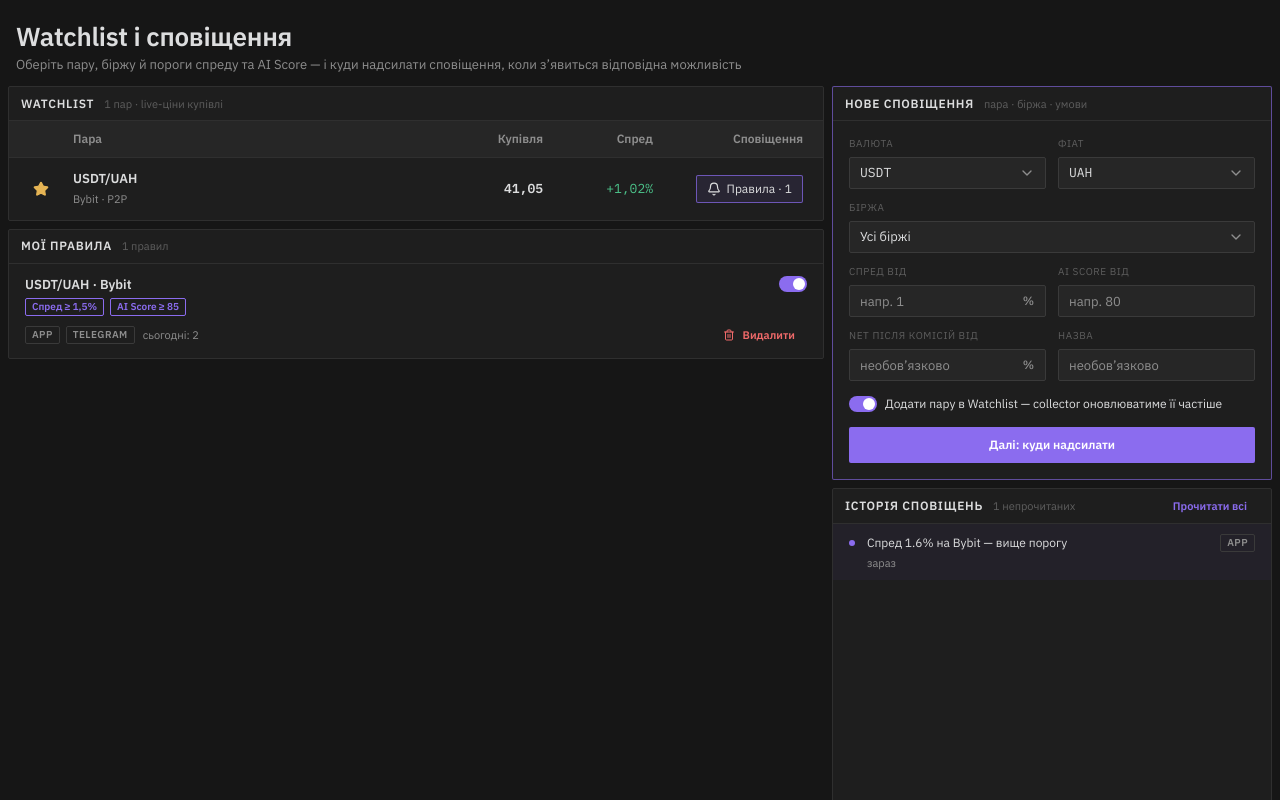
Test case: сторінка «Watchlist і сповіщення» › створює сповіщення: пара, біржа, спред, AI Score, потім вибір каналів
Type "1,5" into the field labelled "Спред від". click: (948, 301)
box: [849,285,1046,317]
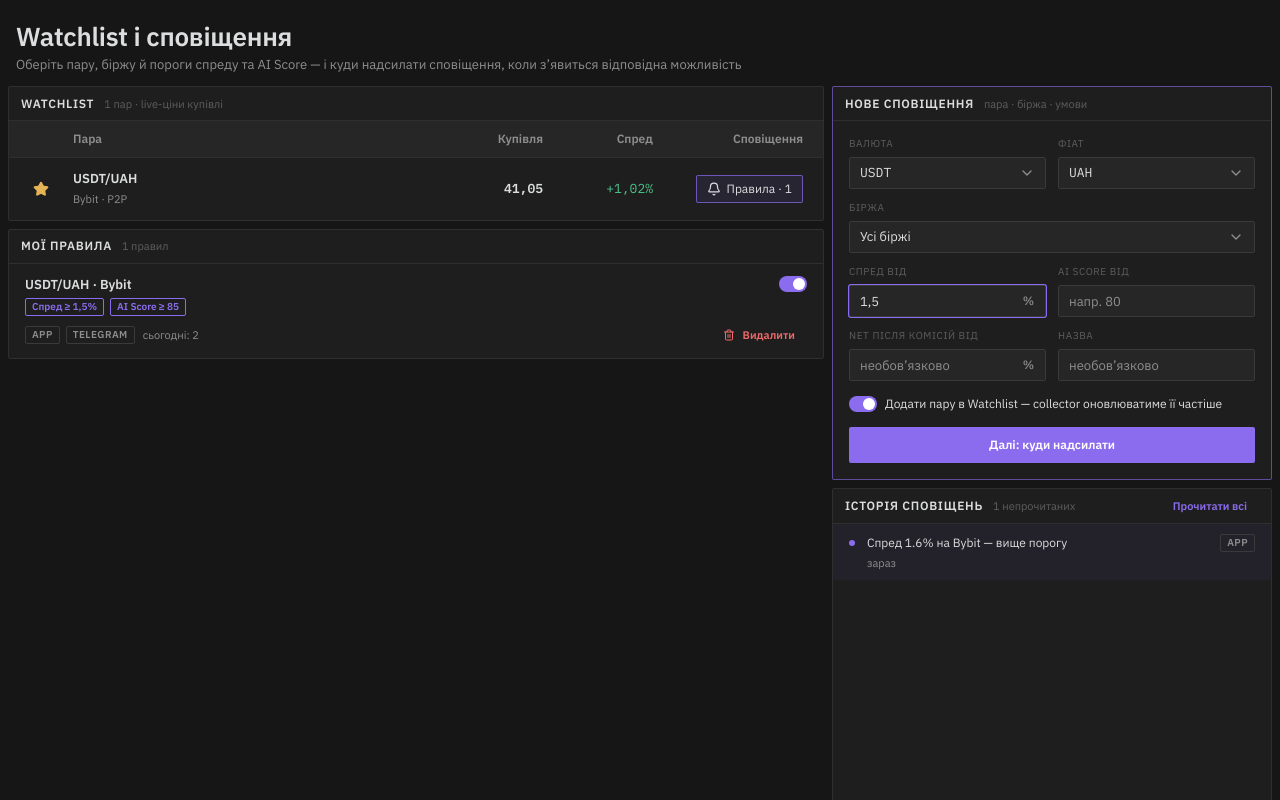
Type "85" into the field labelled "AI Score від". click: (1156, 301)
box: [1058,285,1255,317]
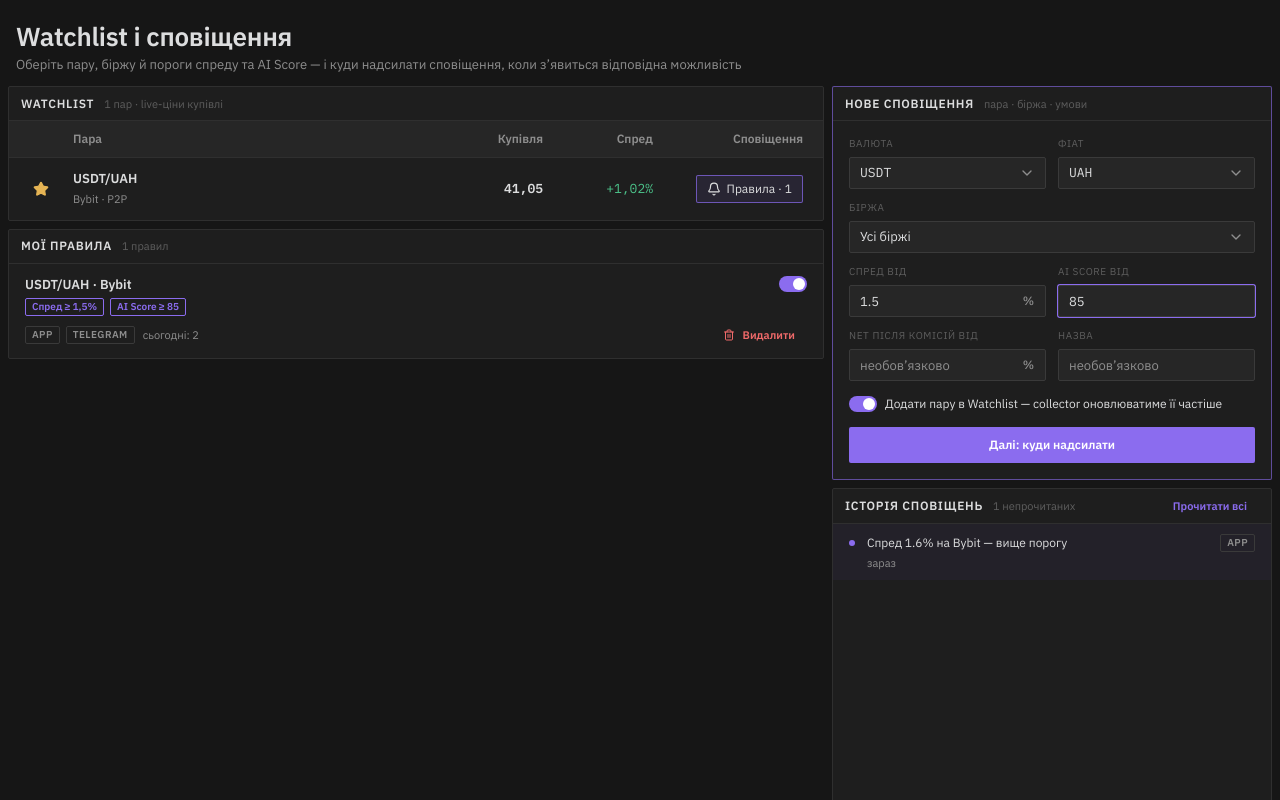
Click the button "Далі: куди надсилати". click: (1052, 445)
box: [849,427,1255,463]
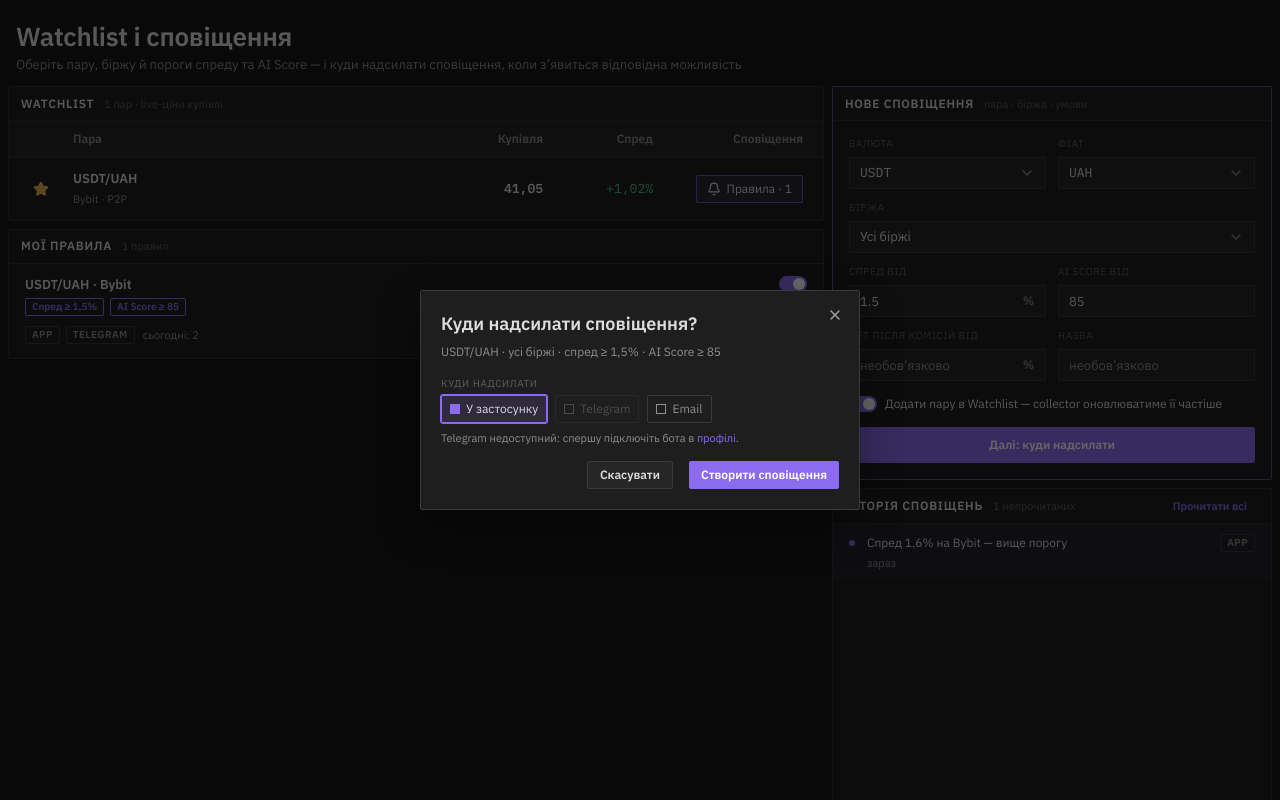
expect the text "USDT/UAH · усі біржі · спред ≥ 1,5% · AI Score ≥ 85" is shown: met, box [441,344,721,359]
expect the button "Telegram" is disabled: met, box [555,395,639,423]
Click the button "Email". click: (680, 409)
box: [647,395,712,423]
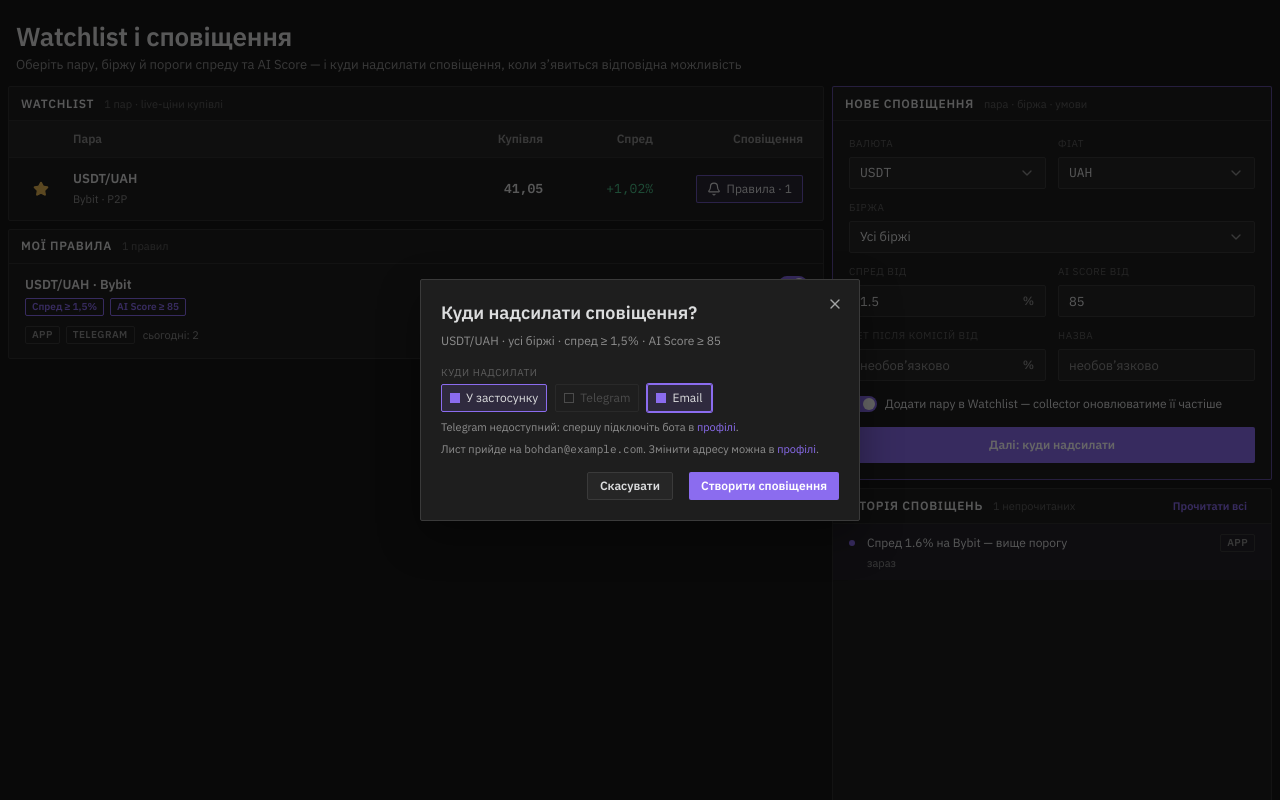
Click the button "Створити сповіщення". click: (764, 486)
box: [689,472,839,500]
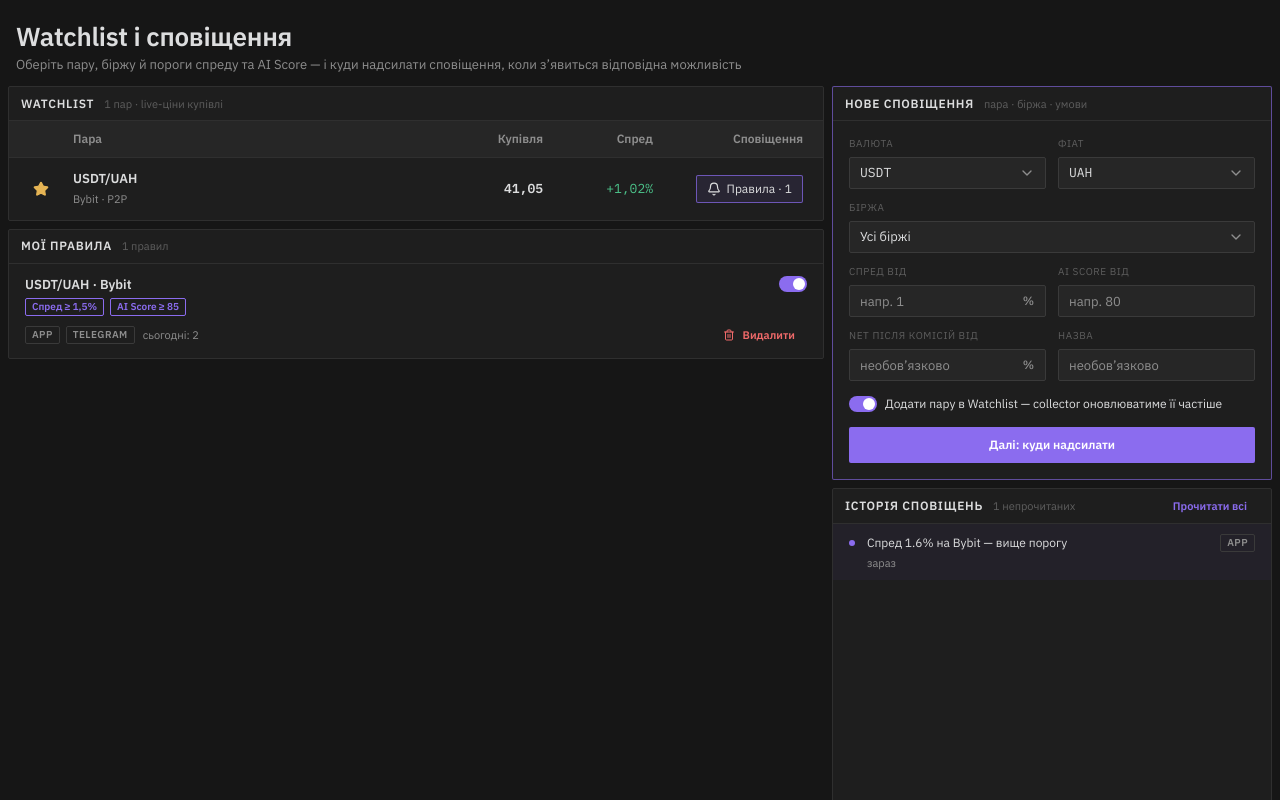
expect the dialog is gone: met
